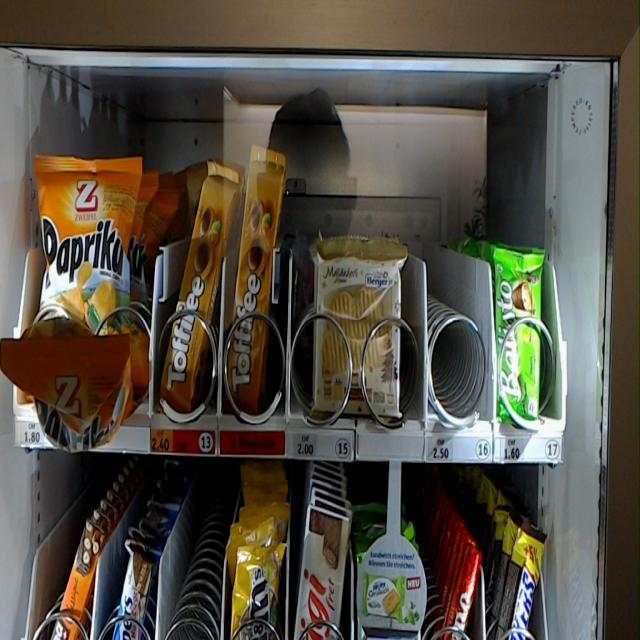balisto_muesli__37g__5000159418546: (492, 247, 542, 429)
berger_mailaenderli____7610404550006: (311, 242, 406, 417)
toffifee___33__4014400924275: (221, 152, 288, 417), (162, 158, 228, 412)
zweifel_paprika__90__7610095013002: (31, 149, 135, 382)
